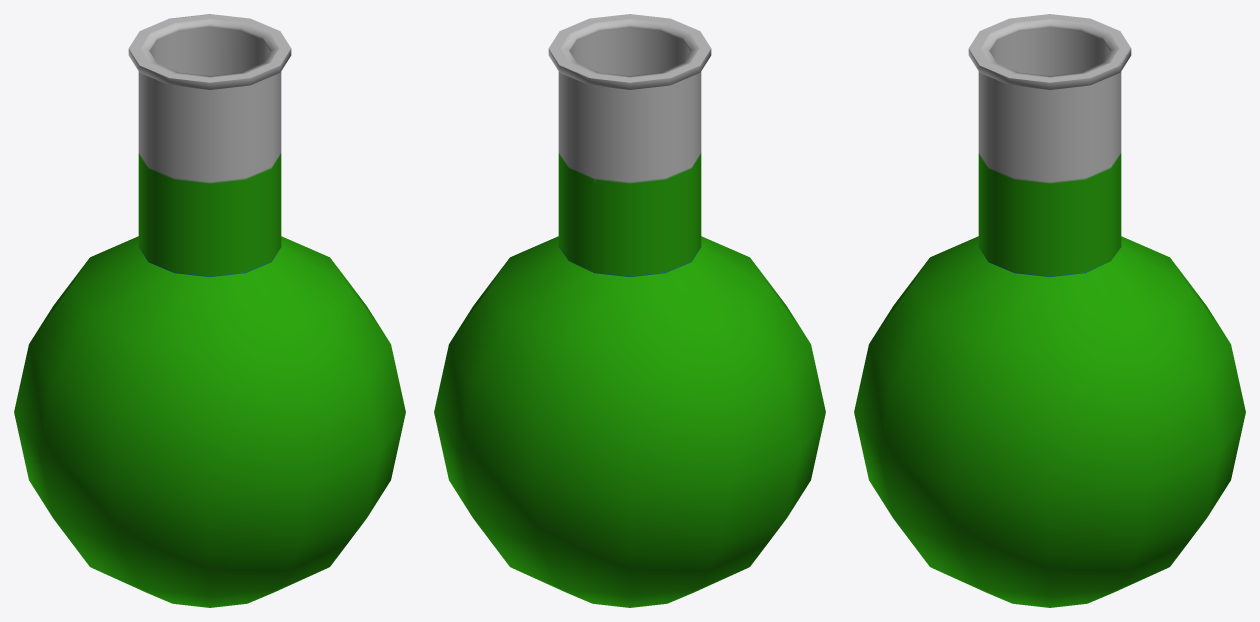
File: poti verde (provisoria).fbx
3 renders of one model, left to right at view 1: azimuth 30°, elevation 25°; view 2: azimuth 150°, elevation 25°; view 3: azimuth 270°, elevation 25°, orthographic.
Parts seen in each view (by area): view 1: Sphere.007; view 2: Sphere.007; view 3: Sphere.007.
Part boxes in pixels (box(x1,y1,x2,y2)): Sphere.007: box(14, 14, 405, 607); Sphere.007: box(434, 14, 825, 607); Sphere.007: box(854, 14, 1245, 607).
Size of the model in its own units: 200 by 305 by 200.
